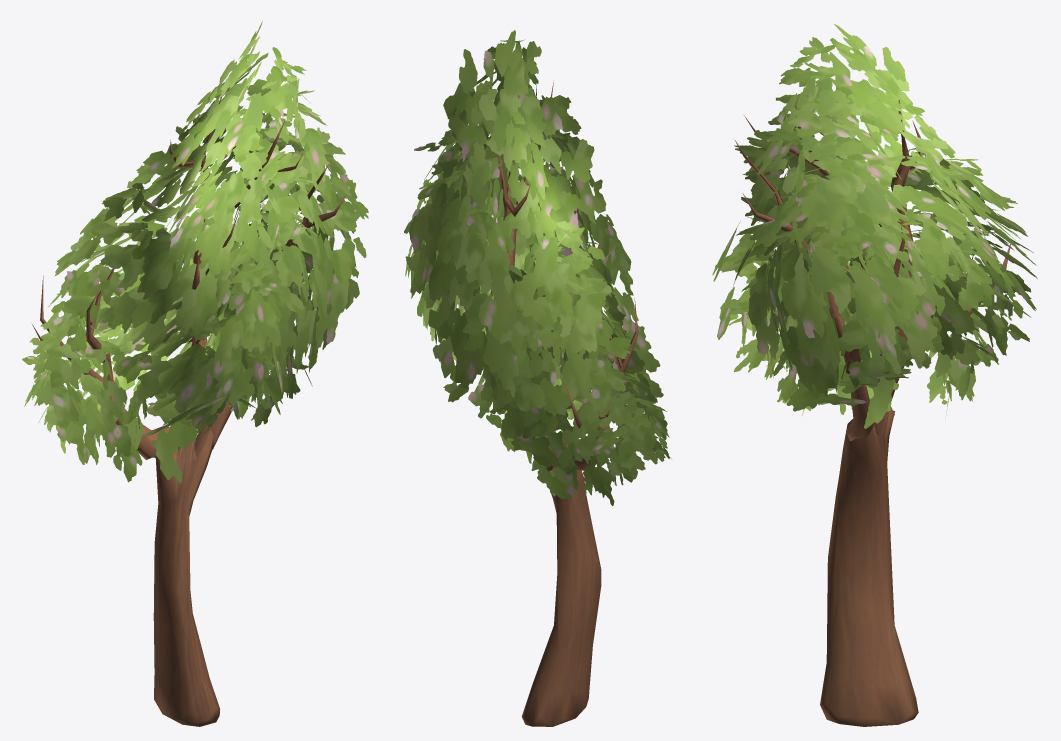
The model's file is WriteLoop_Tree_C_LOD1.glb.
3 views of the same model, side by side, from view 1: azimuth 30°, elevation 25°; view 2: azimuth 150°, elevation 25°; view 3: azimuth 270°, elevation 25° (orthographic). The views are drawn at different scales.
Visible parts, largest first — view 1: Tree_Foliage, Tree_Wood; view 2: Tree_Foliage, Tree_Wood; view 3: Tree_Foliage, Tree_Wood.
Boxes of the visible parts, box(x1,y1,x2,y2) form: Tree_Foliage: box(22, 21, 368, 483); Tree_Wood: box(32, 96, 347, 726); Tree_Foliage: box(404, 30, 671, 505); Tree_Wood: box(490, 82, 638, 726); Tree_Foliage: box(712, 24, 1037, 428); Tree_Wood: box(734, 100, 1010, 726).
Bounding box in the file's own units: 1.34 × 3.1 × 1.31.
Materials: 2 (2 with a texture image).
